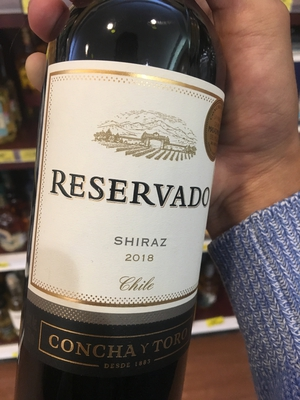reservado shiraz: (29, 10, 229, 400)
